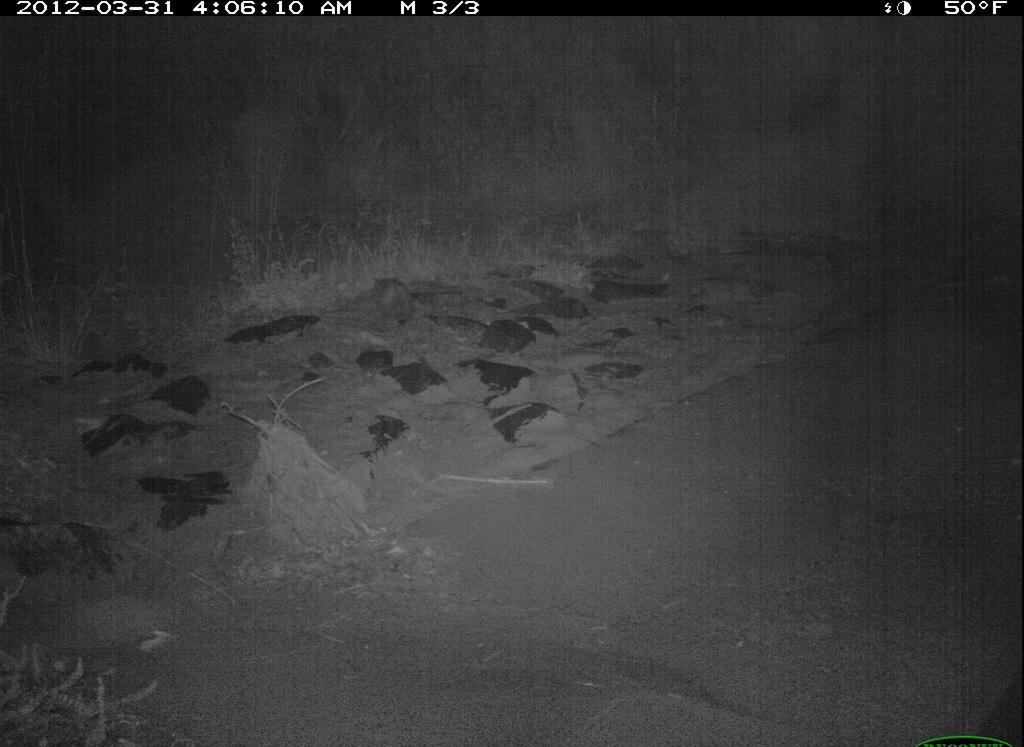opossum: (365, 261, 427, 331)
